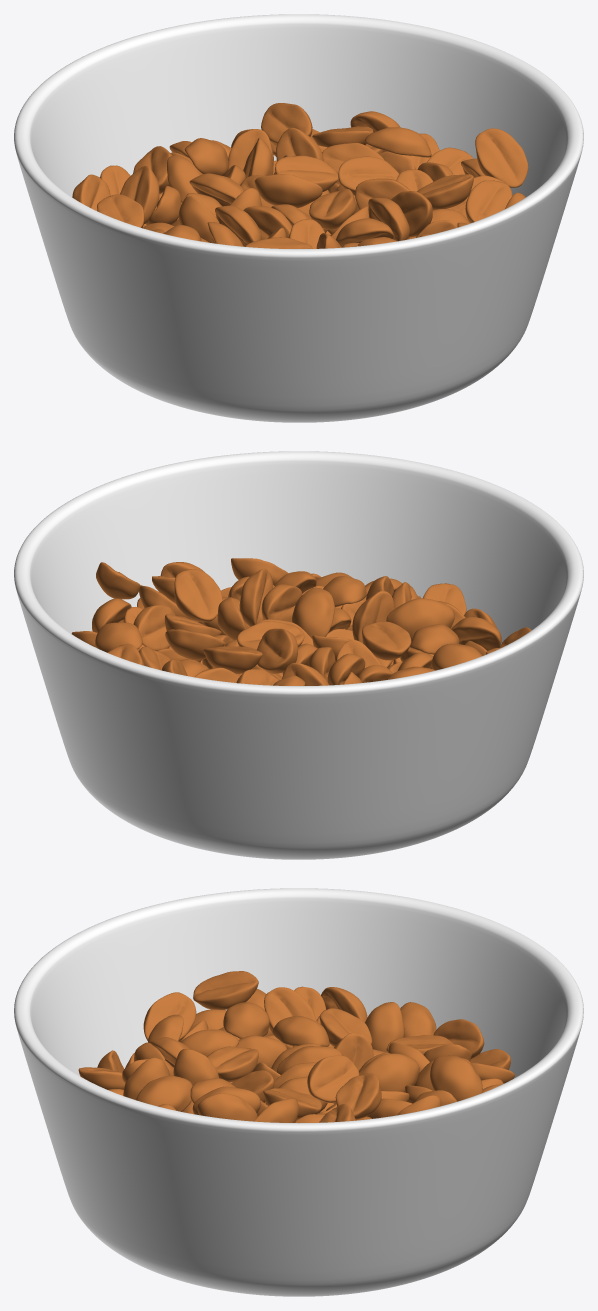
File: peanut.fbx
3 renders of one model, top to bottom at view 1: azimuth 30°, elevation 25°; view 2: azimuth 150°, elevation 25°; view 3: azimuth 270°, elevation 25°, orthographic.
Parts seen in each view (by area): view 1: Bowl, Nuts; view 2: Bowl, Nuts; view 3: Bowl, Nuts.
Part boxes in pixels (bbox=[...]): Bowl: bbox=[14, 14, 583, 422]; Nuts: bbox=[72, 103, 528, 248]; Bowl: bbox=[14, 451, 583, 859]; Nuts: bbox=[71, 558, 531, 685]; Bowl: bbox=[14, 888, 583, 1296]; Nuts: bbox=[78, 971, 515, 1122].
Size of the model in its own units: 11.92 by 4.81 by 11.92.
